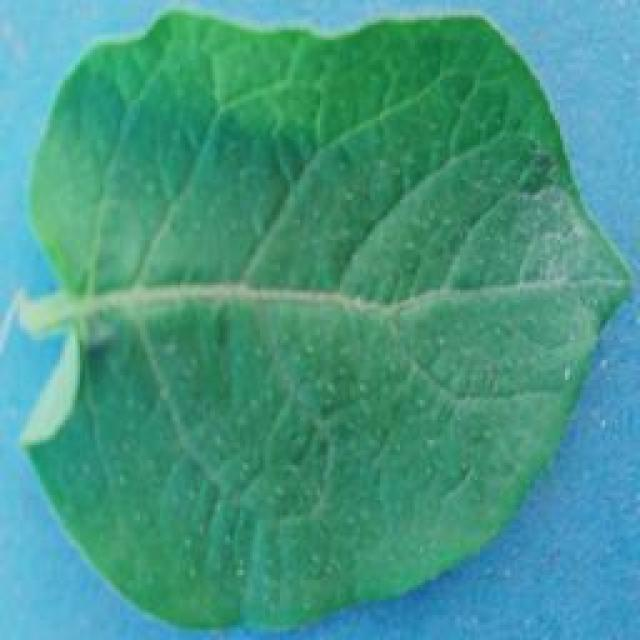Potato_Healthy: (13, 8, 625, 630)
